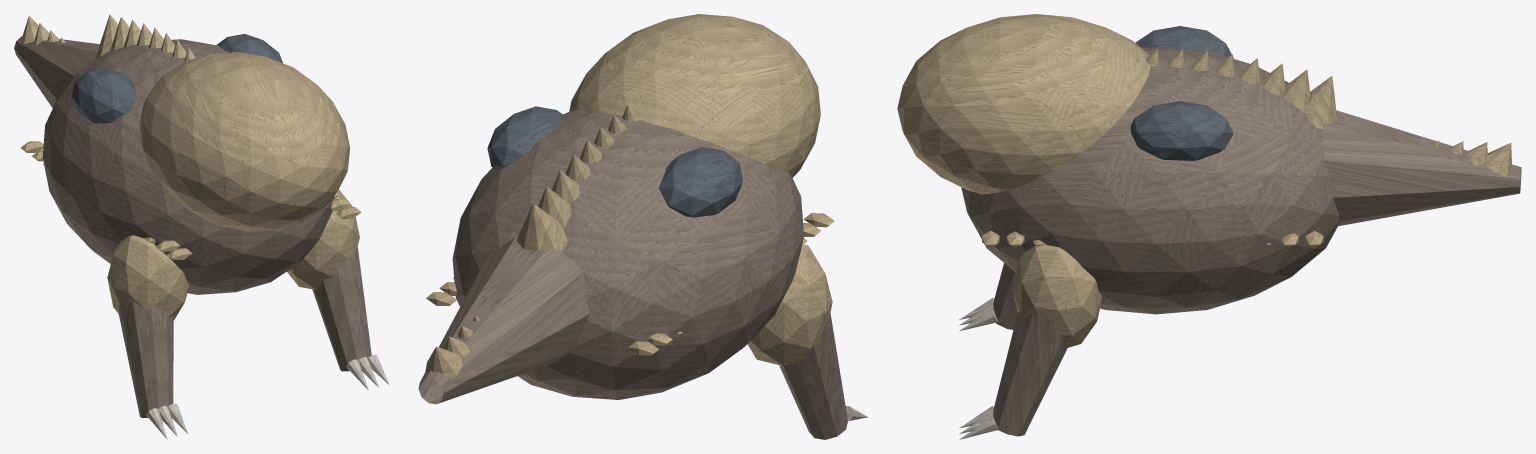
Rendered from dragon_body.glb.
3 views of the same model, side by side, from view 1: azimuth 30°, elevation 25°; view 2: azimuth 150°, elevation 25°; view 3: azimuth 270°, elevation 25° (orthographic). The views are drawn at different scales.
Parts seen in each view (by area): view 1: dragonplate, dragon, iron, bone, gold; view 2: dragon, dragonplate, iron, gold; view 3: dragon, dragonplate, iron, bone, gold.
Boxes of the visible parts, x1,y1,x2,y2 form: dragonplate: (19, 14, 359, 320); dragon: (14, 36, 371, 417); iron: (72, 34, 282, 123); bone: (146, 354, 389, 439); gold: (20, 141, 361, 260); dragon: (418, 109, 847, 439); dragonplate: (425, 14, 832, 380); iron: (487, 106, 743, 217); gold: (426, 213, 834, 355); dragon: (961, 47, 1521, 436); dragonplate: (897, 14, 1511, 347); iron: (1130, 26, 1233, 160); bone: (959, 298, 998, 439); gold: (982, 231, 1323, 247).
Bounding box in the file's own units: 6.44 × 8.14 × 13.02.
5 materials, 5 textured.
